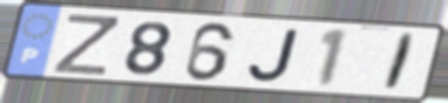1: (315, 27, 350, 90)
6: (182, 20, 238, 83)
8: (124, 20, 174, 76)
I: (379, 31, 419, 93)
J: (245, 27, 302, 84)
Z: (50, 12, 121, 77)
